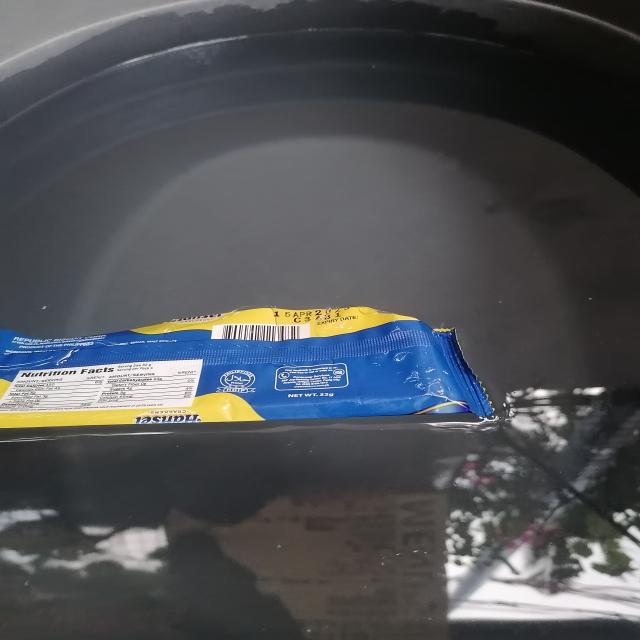Plastic Wrapper: (0, 277, 535, 448)
